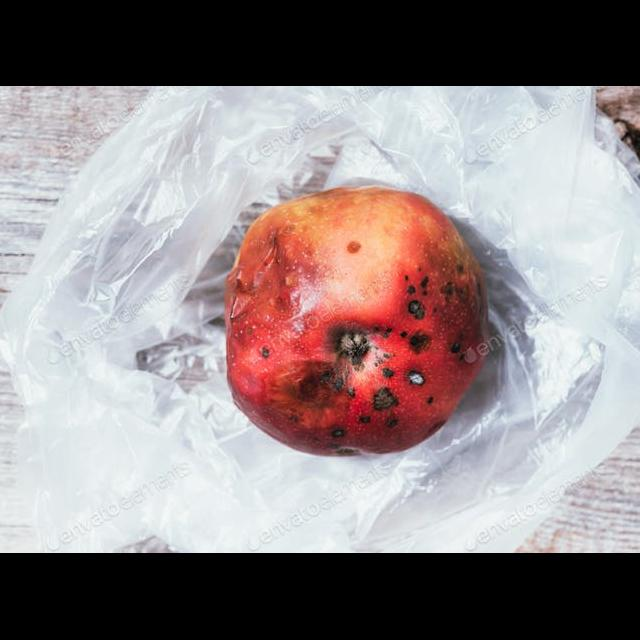food_waste: (182, 171, 531, 468)
